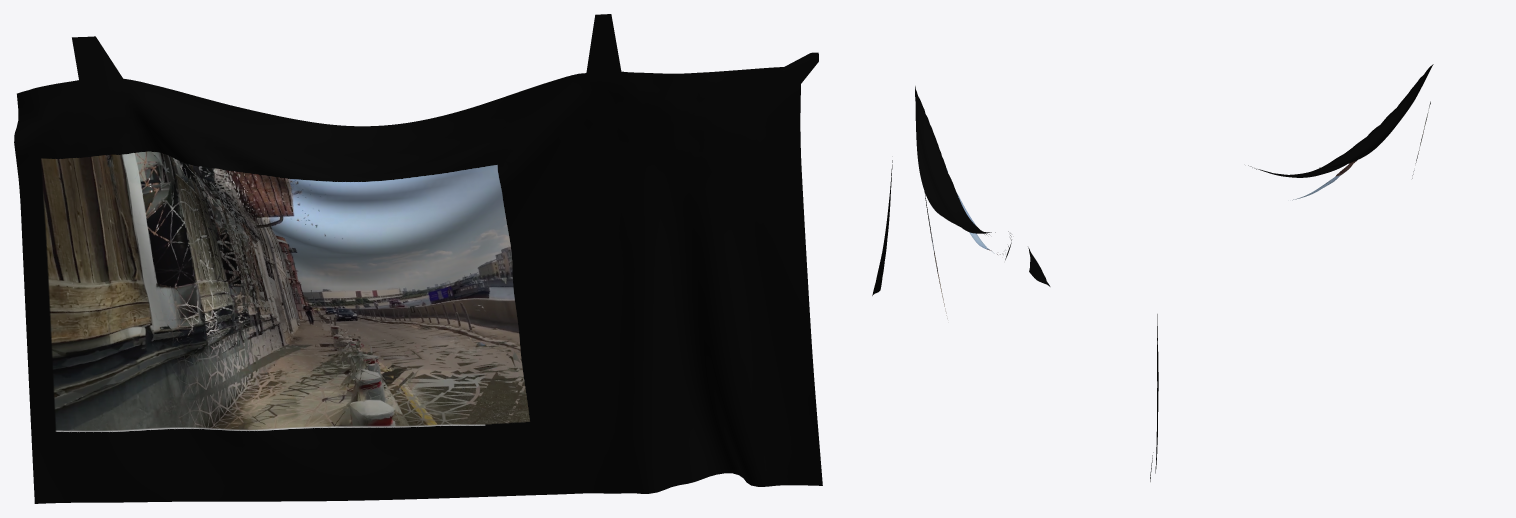
Rendered from horizontal.gltf.
3 views of the same model, side by side, from view 1: azimuth 30°, elevation 25°; view 2: azimuth 150°, elevation 25°; view 3: azimuth 270°, elevation 25° (orthographic). The views are drawn at different scales.
Parts seen in each view (by area): view 1: pPlane6; view 2: pPlane6; view 3: pPlane6.
Boxes of the visible parts, x1,y1,x2,y2 form: pPlane6: (14,14,822,503); pPlane6: (872,86,1050,318); pPlane6: (1150,64,1433,481).
Size of the model in its own units: 3.01 by 2.65 by 2.5.
1 material, 1 textured.
